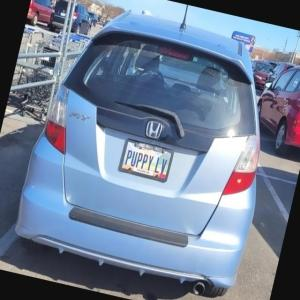Plate: (119, 138, 174, 182)
